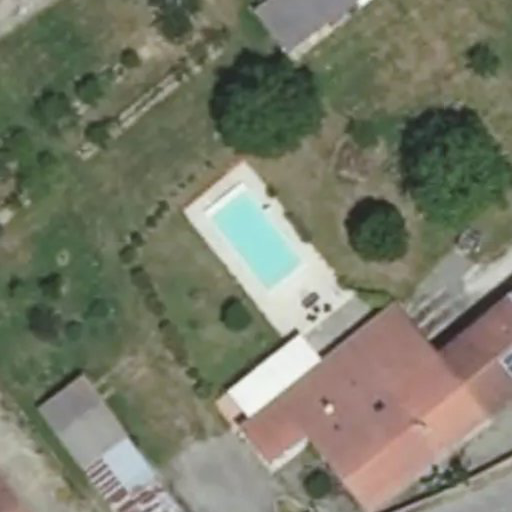pool: (204, 214, 307, 269)
